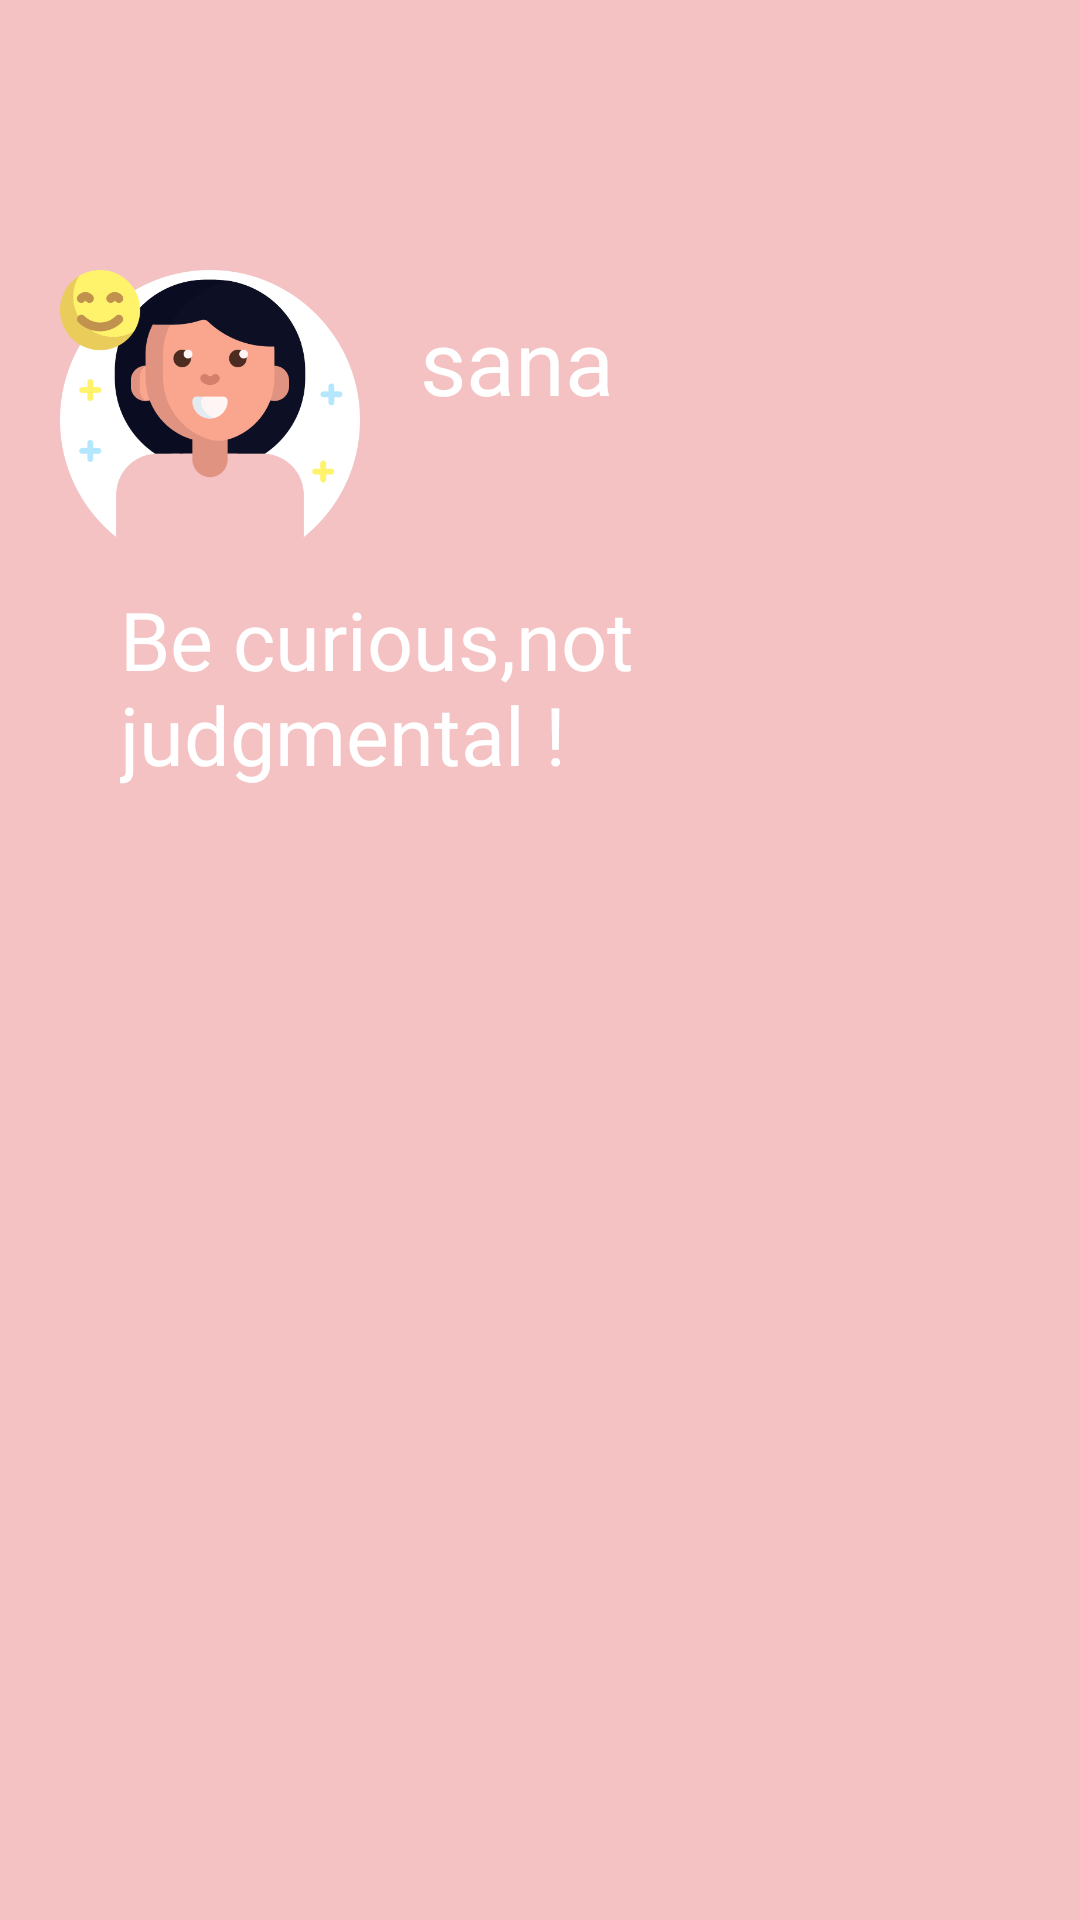

Where to tap for icons on this 1080w x 1920h app screen, as (x,y):
profile: (210,403)
